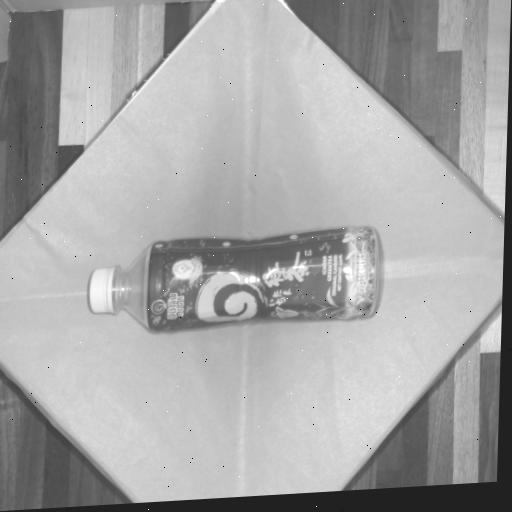bottle: (89, 228, 377, 330)
